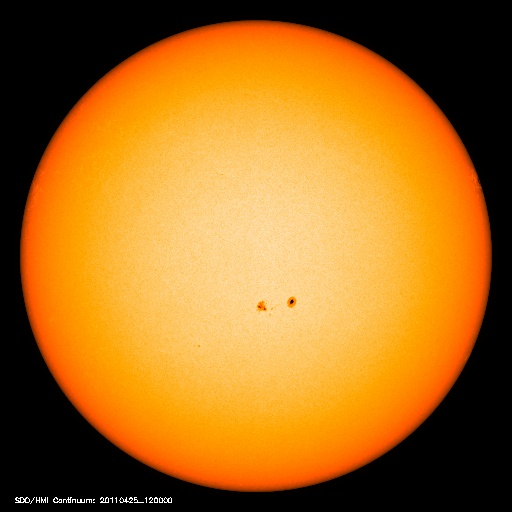sunspot: (248, 287, 306, 320)
